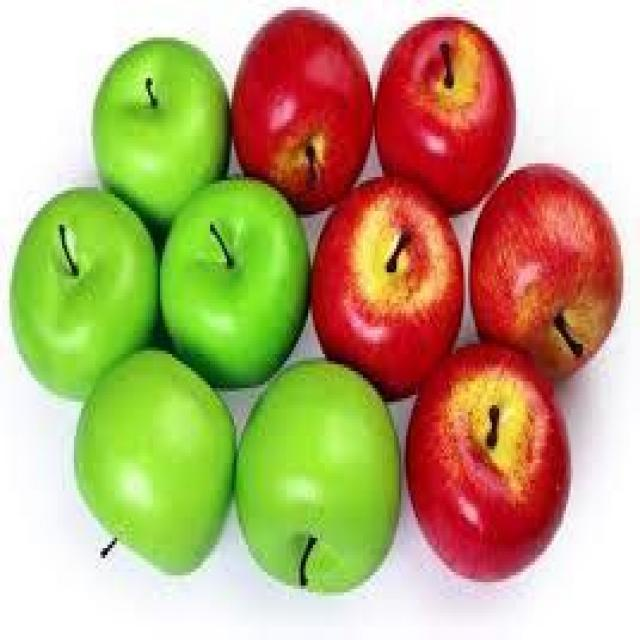Fresh Apple: (410, 356, 563, 586), (248, 375, 388, 573), (333, 194, 482, 378), (15, 193, 160, 382), (92, 362, 230, 558), (372, 17, 518, 196), (473, 172, 610, 355), (170, 192, 298, 378), (235, 15, 367, 185), (93, 35, 225, 193)
